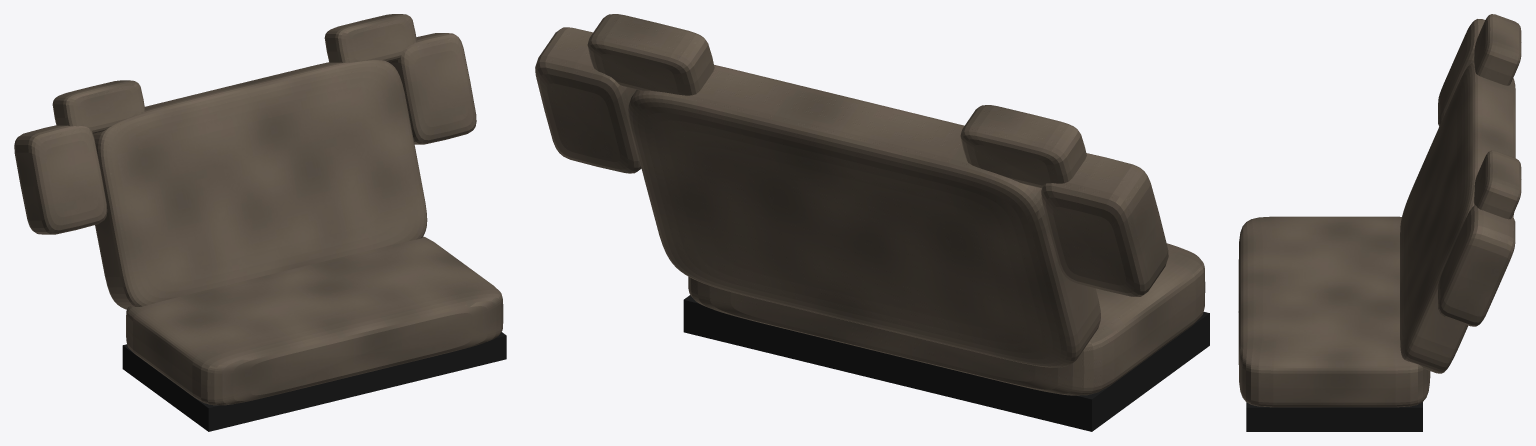
The model's file is banco_traseiro.glb.
3 views of the same model, side by side, from view 1: azimuth 30°, elevation 25°; view 2: azimuth 150°, elevation 25°; view 3: azimuth 270°, elevation 25° (orthographic). The views are drawn at different scales.
Visible parts, largest first — view 1: banco_traseiro_tecido_banco, banco_traseiro_chassi; view 2: banco_traseiro_tecido_banco, banco_traseiro_chassi; view 3: banco_traseiro_tecido_banco, banco_traseiro_chassi.
Part boxes in pixels (x1,y1,x2,y2): banco_traseiro_tecido_banco: [14, 14, 503, 405]; banco_traseiro_chassi: [122, 332, 506, 431]; banco_traseiro_tecido_banco: [535, 14, 1205, 395]; banco_traseiro_chassi: [683, 295, 1209, 431]; banco_traseiro_tecido_banco: [1238, 14, 1521, 407]; banco_traseiro_chassi: [1246, 402, 1422, 431].
Size of the model in its own units: 1.34 by 0.7475 by 0.7367.
Materials: 2 (1 with a texture image).
